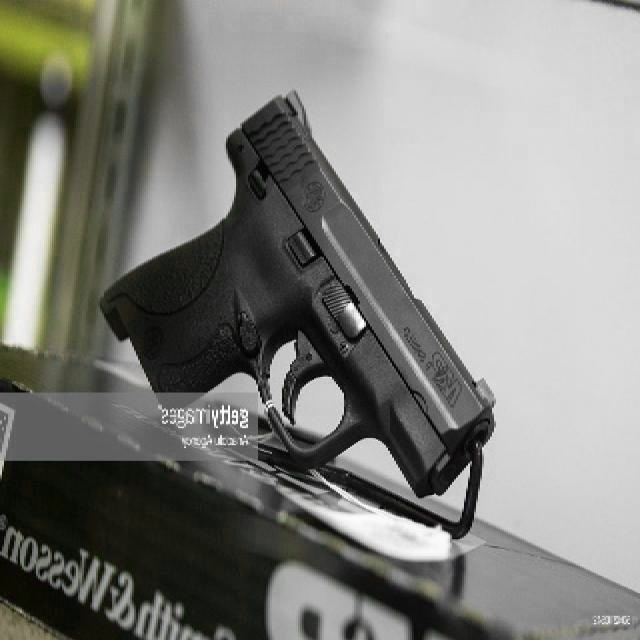gun: (100, 74, 500, 495)
